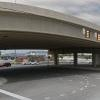Bridge: (10, 2, 93, 60)
